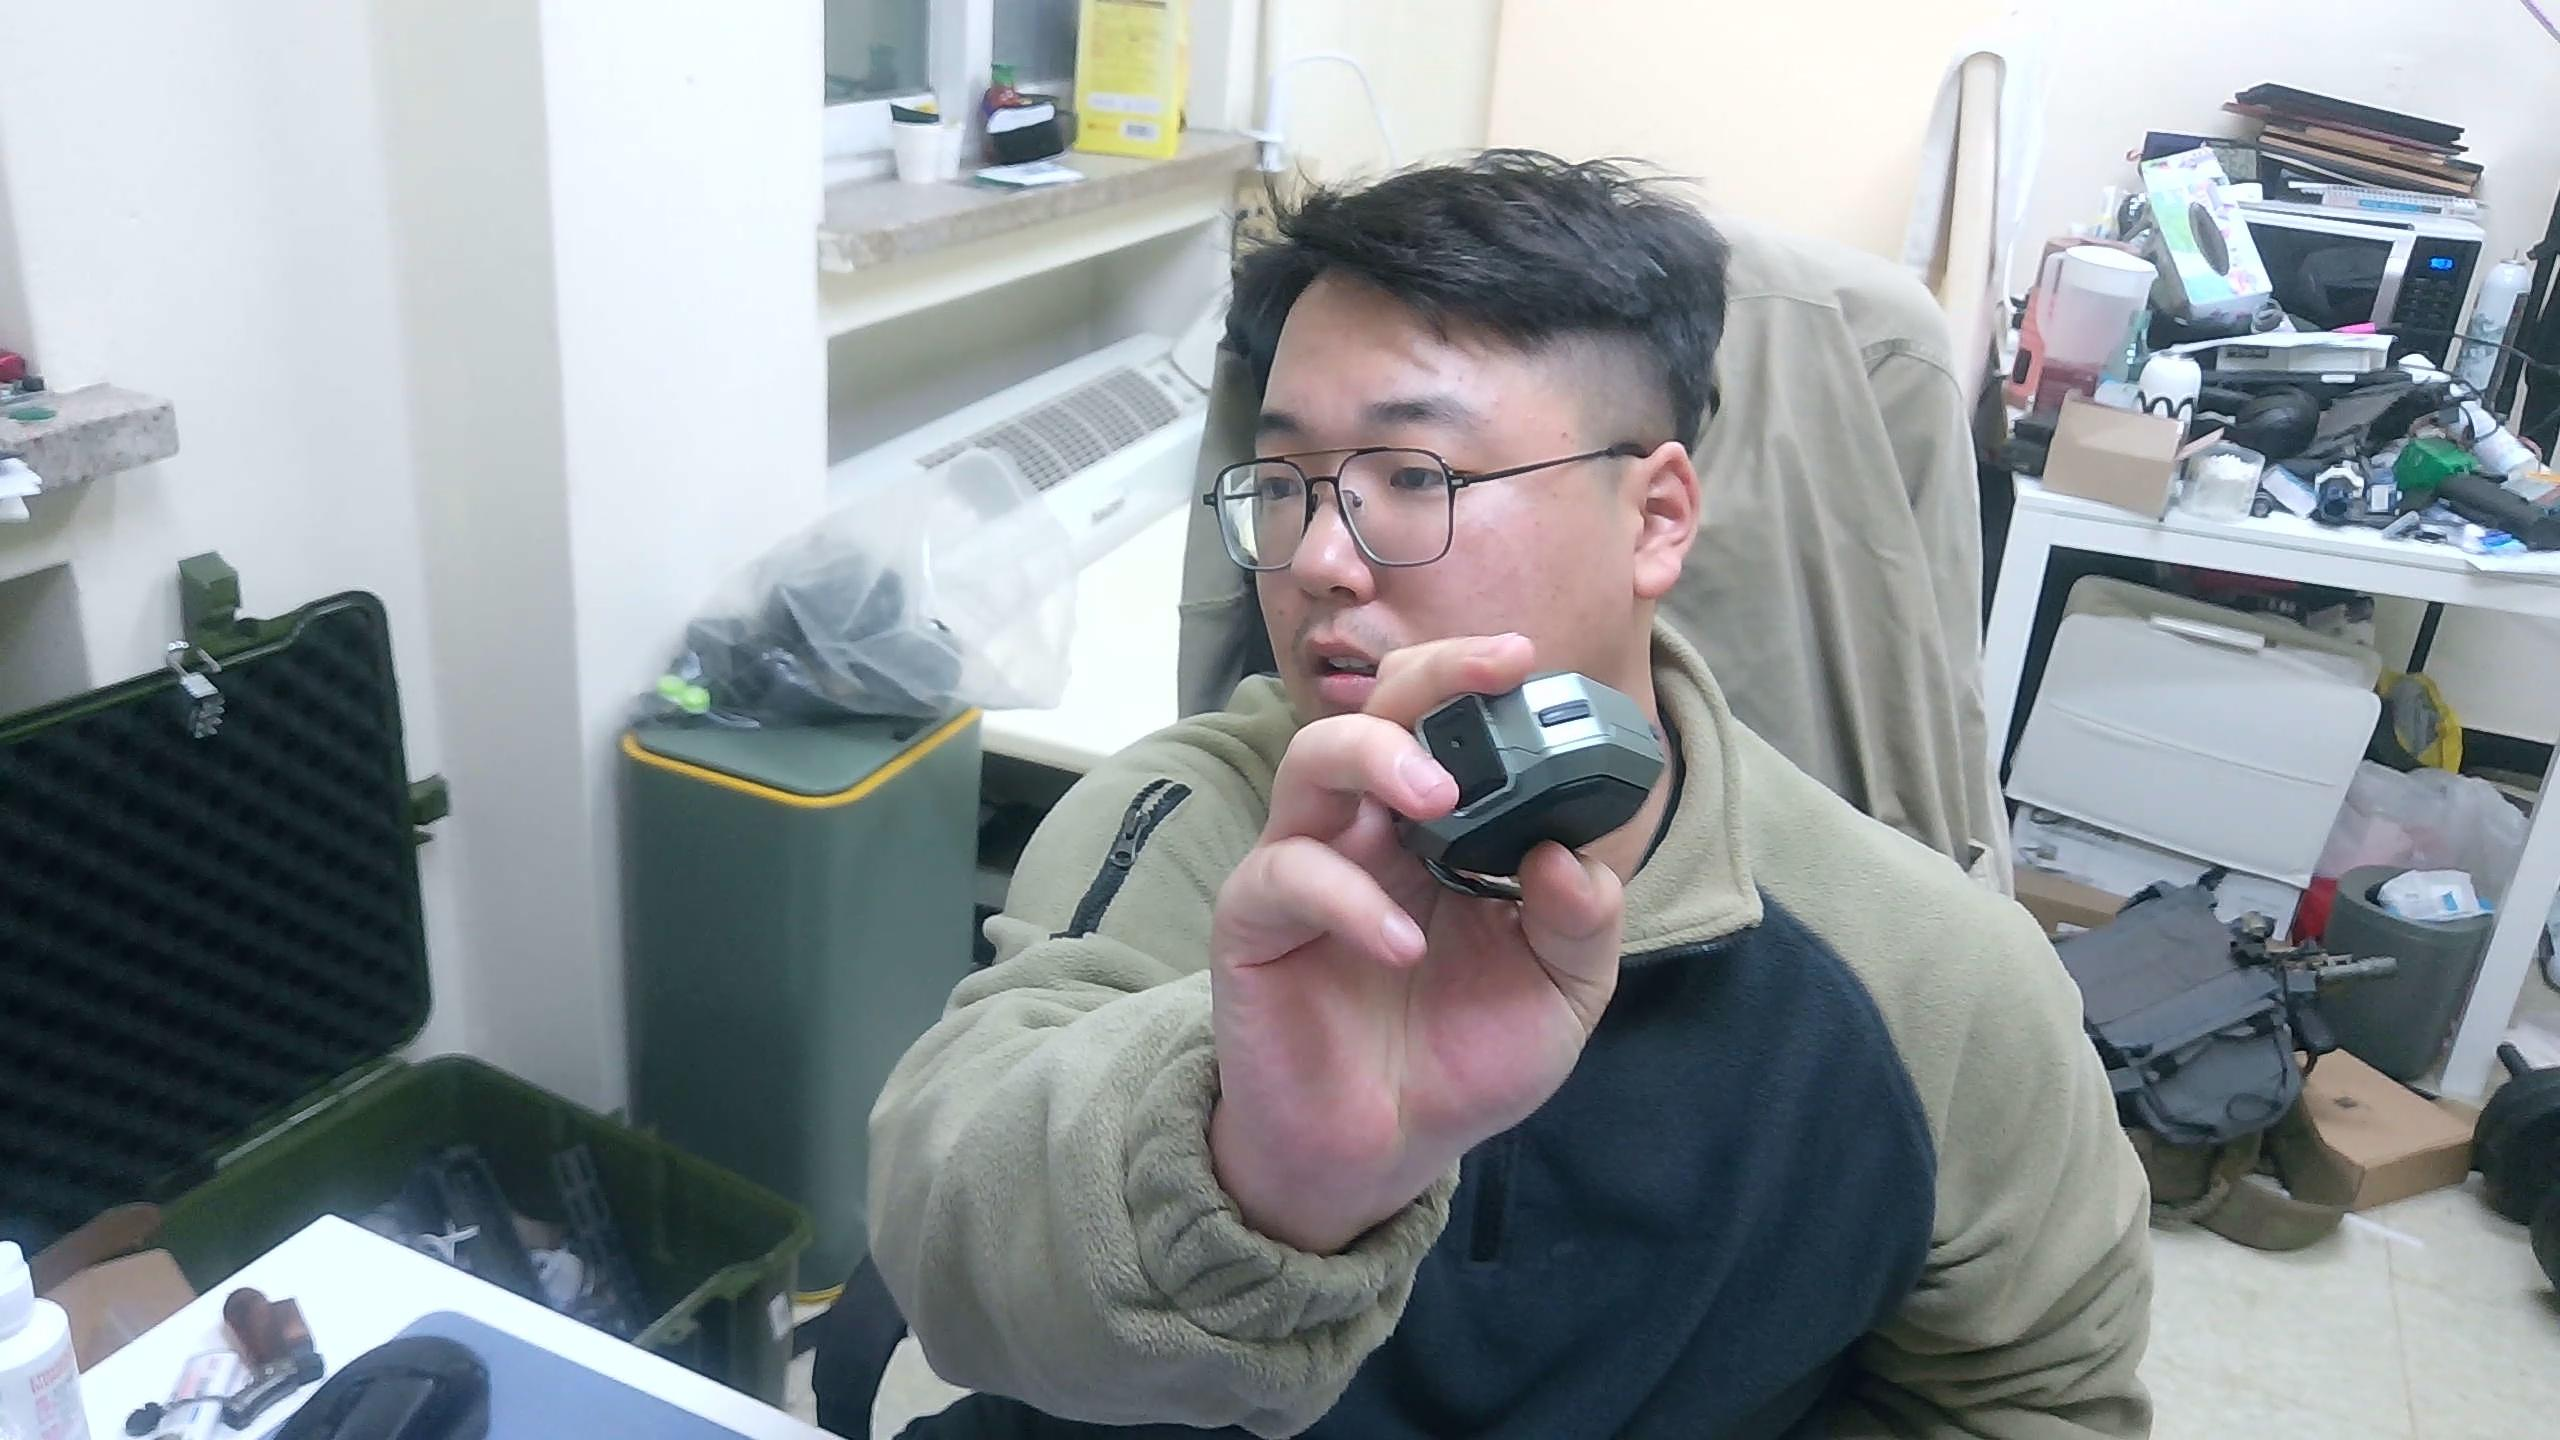blue_pliers: (1391, 668, 1672, 902)
